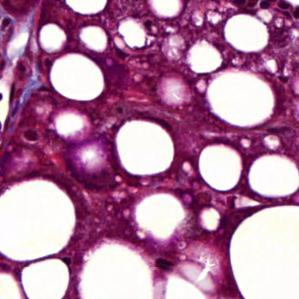steatosis: (205, 71, 274, 134), (114, 118, 178, 176), (50, 53, 106, 101), (198, 145, 244, 192)
